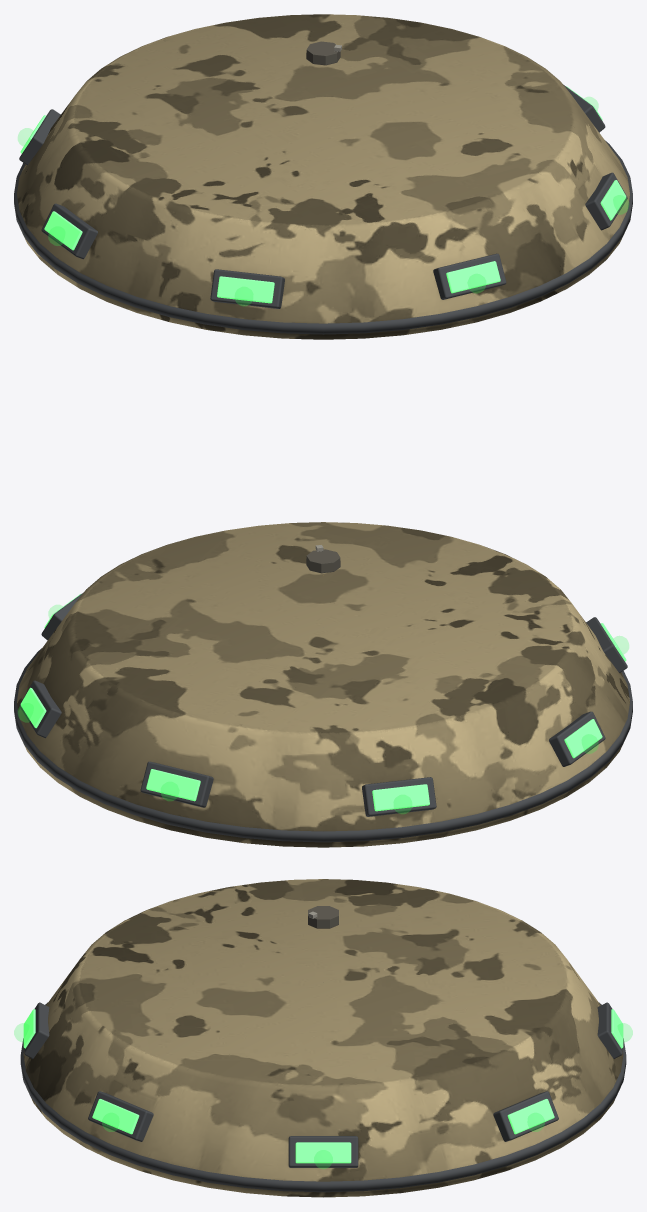
Rendered from GASILO.glb.
3 views of the same model, one above another, from view 1: azimuth 30°, elevation 25°; view 2: azimuth 150°, elevation 25°; view 3: azimuth 270°, elevation 25° (orthographic). The views are drawn at different scales.
Parts seen in each view (by area): view 1: Skirt, TankDetails, Footing; view 2: Skirt, TankDetails, Footing; view 3: Skirt, TankDetails, Footing.
Boxes of the visible parts, x1,y1,x2,y2 form: Skirt: (17,14,629,339); TankDetails: (14,84,632,334); Footing: (306,41,341,65); Skirt: (17,522,629,847); TankDetails: (14,593,632,842); Footing: (306,545,340,573); Skirt: (23,879,623,1197); TankDetails: (20,1002,626,1192); Footing: (308,906,338,928).
Size of the model in its own units: 1.77 by 0.7 by 1.77.
Materials: 14 (1 with a texture image).
